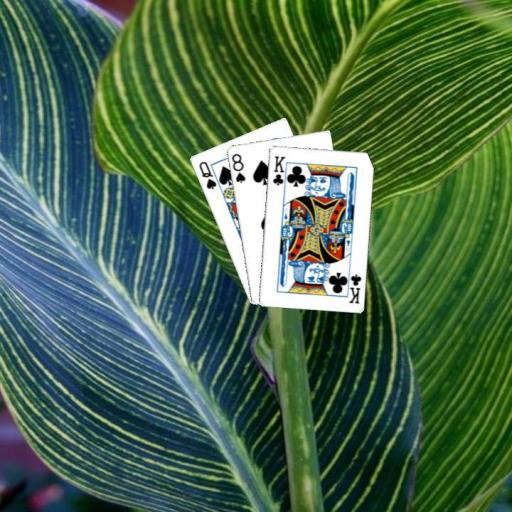8S: (228, 150, 247, 184)
KC: (343, 267, 363, 304), (270, 153, 289, 190)
QS: (196, 158, 218, 190)
